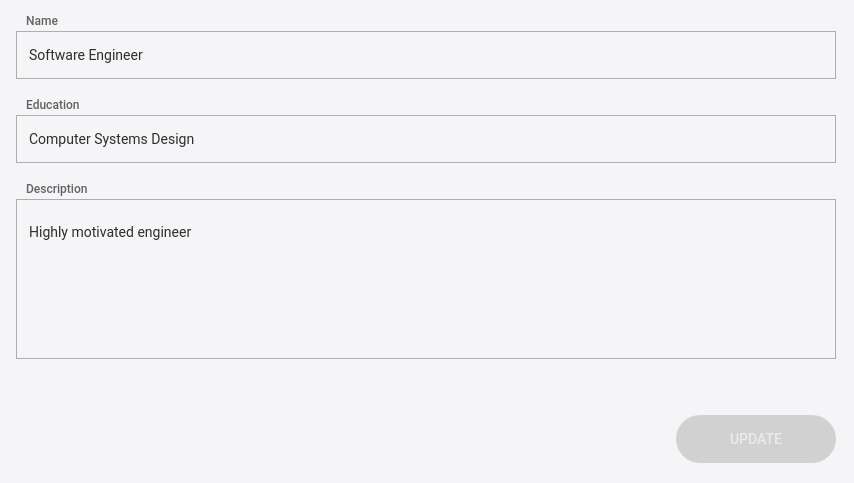
CvDetails › enables update when all fields are filled and values changed
Replace the text in the field labelled "Name" with "Updated name" at point(426, 55), box [16, 31, 836, 79]
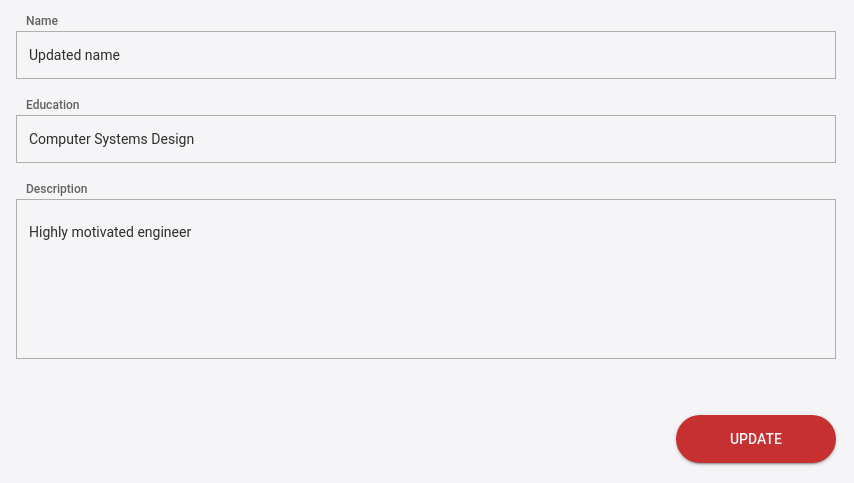
Expected: the button "Update" is enabled, [676, 415, 836, 463]
